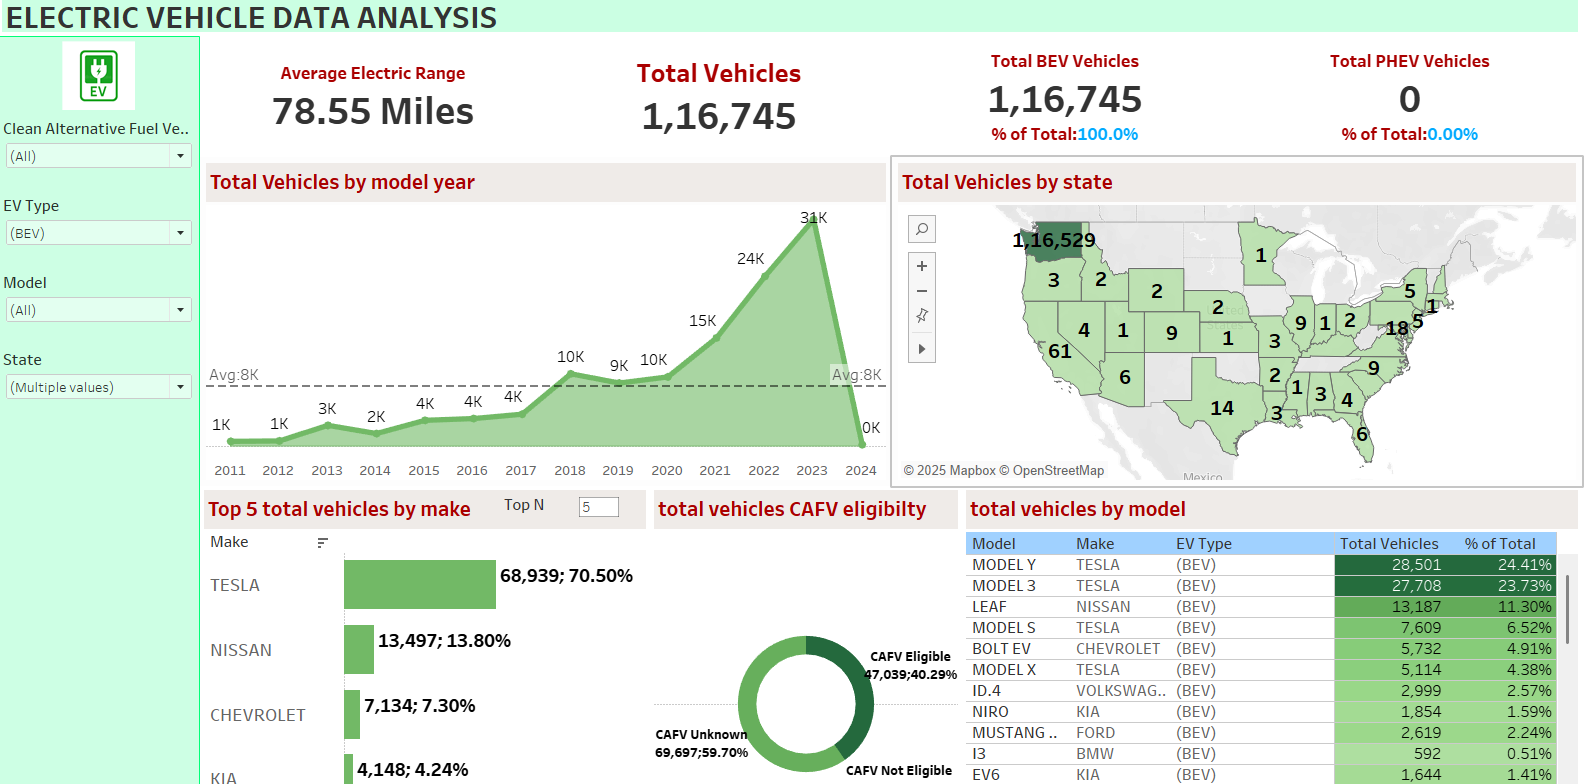

This screenshot's page, from the dashboard's own definition file:
{"tool":"tableau","page":{"name":"ELECTRIC VEHICLE DATA ANALYSIS","canvas":[1600,900],"ordinal":0},"visuals":[{"type":"title","box":[8,8,1584,40]},{"type":"worksheet","title":"average electric range","mark":"Automatic","box":[210,48,346,121]},{"type":"worksheet","title":"total vehicles","mark":"Automatic","box":[556,48,346,121]},{"type":"worksheet","title":"total BEV vehicles","mark":"Automatic","box":[902,48,345,121]},{"type":"worksheet","title":"total PHEV vehicles ","mark":"Automatic","box":[1247,48,345,121]},{"type":"image","param":"Image/download.png","box":[9,49,200,77]},{"type":"filter","title":"Total Vehicles by model year","param":"[federated.01rdx6m1gg19xk1blyqg60uifln7].[none:Clean Alternative Fuel Vehicle (C","box":[9,126,200,77]},{"type":"worksheet","title":"Total Vehicles by model year","mark":"Area","rows":["Calculation_632474340250247168","Calculation_632474340250247168"],"cols":["Model Year"],"box":[210,169,692,329]},{"type":"worksheet","title":"Total Vehicles by state","mark":"Multipolygon","box":[902,169,690,329]},{"type":"filter","title":"Total Vehicles by model year","param":"[federated.01rdx6m1gg19xk1blyqg60uifln7].[none:Electric Vehicle Type:nk]","box":[9,203,200,77]},{"type":"filter","title":"Total Vehicles by model year","param":"[federated.01rdx6m1gg19xk1blyqg60uifln7].[none:Model:nk]","box":[9,280,200,77]},{"type":"filter","title":"Total Vehicles by model year","param":"[federated.01rdx6m1gg19xk1blyqg60uifln7].[none:State:nk]","box":[9,357,200,77]},{"type":"blank","box":[9,434,200,77]},{"type":"worksheet","title":"Top 10 total vehicles by make","mark":"Automatic","rows":["Make"],"cols":["Calculation_632474340250247168"],"box":[210,498,450,394]},{"type":"worksheet","title":"total vehicles CAFV eligibilty","mark":"Pie","rows":["Calculation_632474340311818251","Calculation_632474340311818251"],"box":[660,498,312,394]},{"type":"worksheet","title":"total vehicles by model","mark":"Square","rows":["Model","Make","Electric Vehicle Type"],"box":[972,498,620,394]},{"type":"parameter","param":"[Parameters].[Parameter 1]","box":[514,506,118,28]},{"type":"blank","box":[9,511,200,76]},{"type":"blank","box":[9,587,200,76]},{"type":"blank","box":[9,663,200,76]},{"type":"blank","box":[9,739,200,76]},{"type":"blank","box":[9,815,200,76]}]}

Visuals, with their boxes on the page's 1600x900 design canvas (x1, y1, x2, y2). These are canvas units, not pixel positions in the 1585x784 screenshot, which may show the page scaled, cropped or inside an application window:
title: x1=8, y1=8, x2=1592, y2=48
"average electric range" worksheet: x1=210, y1=48, x2=556, y2=169
"total vehicles" worksheet: x1=556, y1=48, x2=902, y2=169
"total BEV vehicles" worksheet: x1=902, y1=48, x2=1247, y2=169
"total PHEV vehicles " worksheet: x1=1247, y1=48, x2=1592, y2=169
image: x1=9, y1=49, x2=209, y2=126
"Total Vehicles by model year" filter: x1=9, y1=126, x2=209, y2=203
"Total Vehicles by model year" worksheet (Area marks): x1=210, y1=169, x2=902, y2=498
"Total Vehicles by state" worksheet (Multipolygon marks): x1=902, y1=169, x2=1592, y2=498
"Total Vehicles by model year" filter: x1=9, y1=203, x2=209, y2=280
"Total Vehicles by model year" filter: x1=9, y1=280, x2=209, y2=357
"Total Vehicles by model year" filter: x1=9, y1=357, x2=209, y2=434
blank: x1=9, y1=434, x2=209, y2=511
"Top 10 total vehicles by make" worksheet: x1=210, y1=498, x2=660, y2=892
"total vehicles CAFV eligibilty" worksheet (Pie marks): x1=660, y1=498, x2=972, y2=892
"total vehicles by model" worksheet (Square marks): x1=972, y1=498, x2=1592, y2=892
parameter: x1=514, y1=506, x2=632, y2=534
blank: x1=9, y1=511, x2=209, y2=587
blank: x1=9, y1=587, x2=209, y2=663
blank: x1=9, y1=663, x2=209, y2=739
blank: x1=9, y1=739, x2=209, y2=815
blank: x1=9, y1=815, x2=209, y2=891
